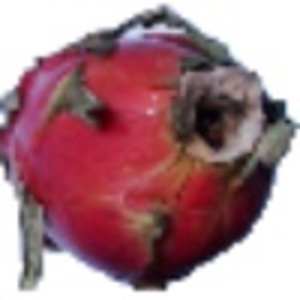pitaia: (1, 5, 300, 291)
